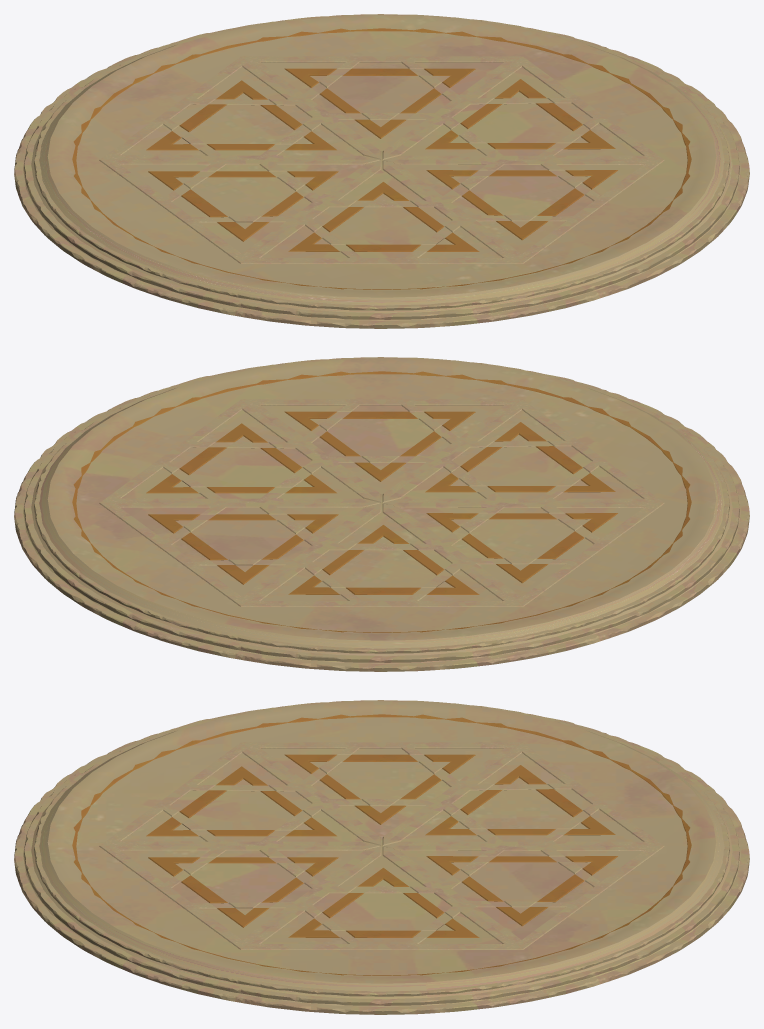
File: Prefab_NOM_DockingTractorBeam.fbx
3 views of the same model, one above another, from view 1: azimuth 30°, elevation 25°; view 2: azimuth 150°, elevation 25°; view 3: azimuth 270°, elevation 25° (orthographic).
Parts seen in each view (by area): view 1: Props_NOM_LargeTractorBeam_COL, Props_NOM_LargeTractorBeam_Geo; view 2: Props_NOM_LargeTractorBeam_COL, Props_NOM_LargeTractorBeam_Geo; view 3: Props_NOM_LargeTractorBeam_COL, Props_NOM_LargeTractorBeam_Geo.
Part boxes in pixels (<box>): Props_NOM_LargeTractorBeam_COL: <box>23,15,740,320</box>; Props_NOM_LargeTractorBeam_Geo: <box>14,14,749,328</box>; Props_NOM_LargeTractorBeam_COL: <box>23,358,740,663</box>; Props_NOM_LargeTractorBeam_Geo: <box>14,357,749,671</box>; Props_NOM_LargeTractorBeam_COL: <box>23,701,740,1006</box>; Props_NOM_LargeTractorBeam_Geo: <box>14,700,749,1014</box>.
Size of the model in its own units: 2872 by 73.06 by 2874.
